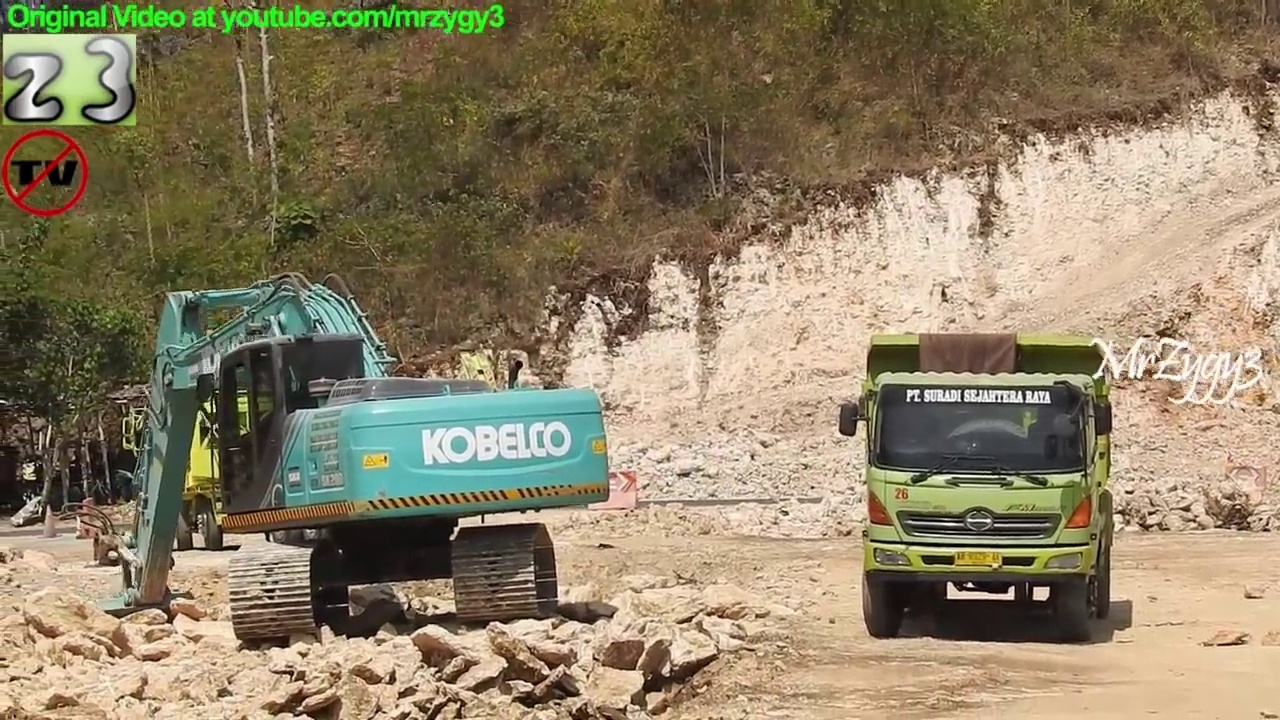excavator: (93, 264, 617, 652)
truck: (833, 328, 1120, 643), (115, 368, 516, 550)
